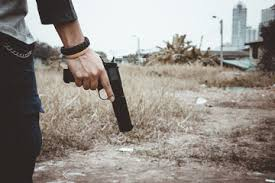gun: (64, 60, 135, 133)
